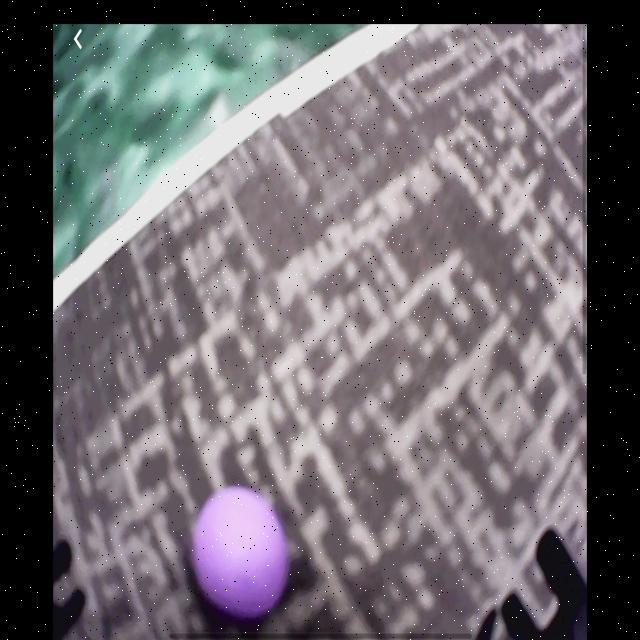ball: (192, 482, 291, 625)
